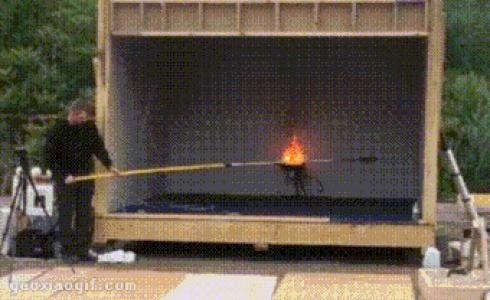fire: (281, 136, 306, 166)
